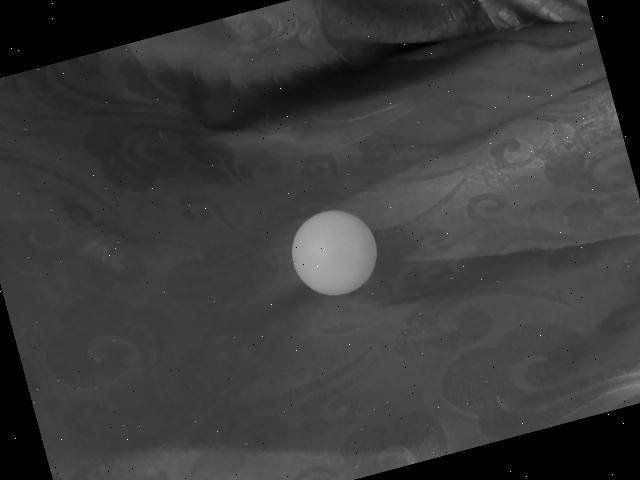ball: (282, 201, 387, 305)
